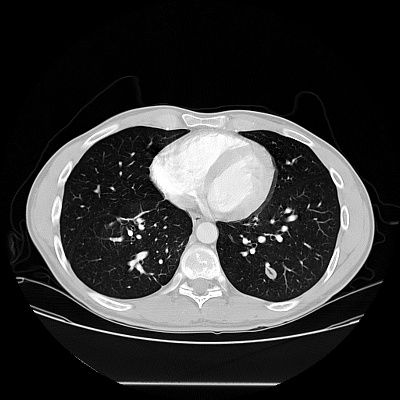PN: (265, 267, 277, 279)
